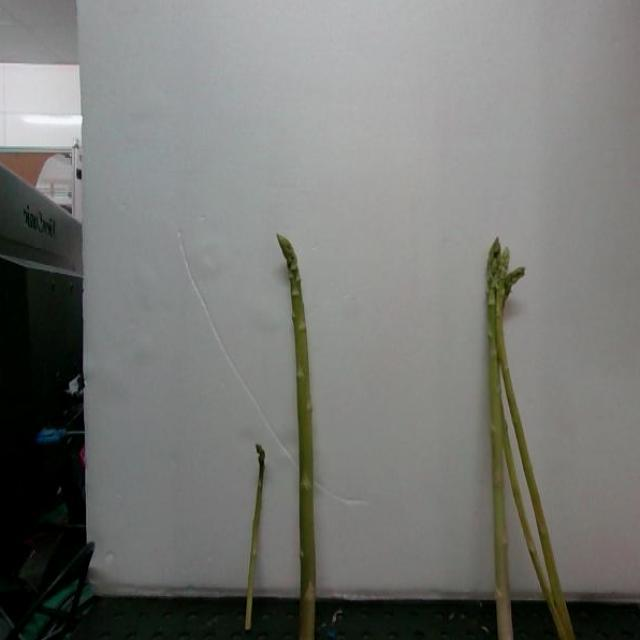aspargus: (279, 236, 318, 640), (484, 237, 514, 640), (244, 441, 267, 630)
